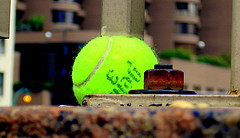tennis ball: (67, 32, 167, 114)
